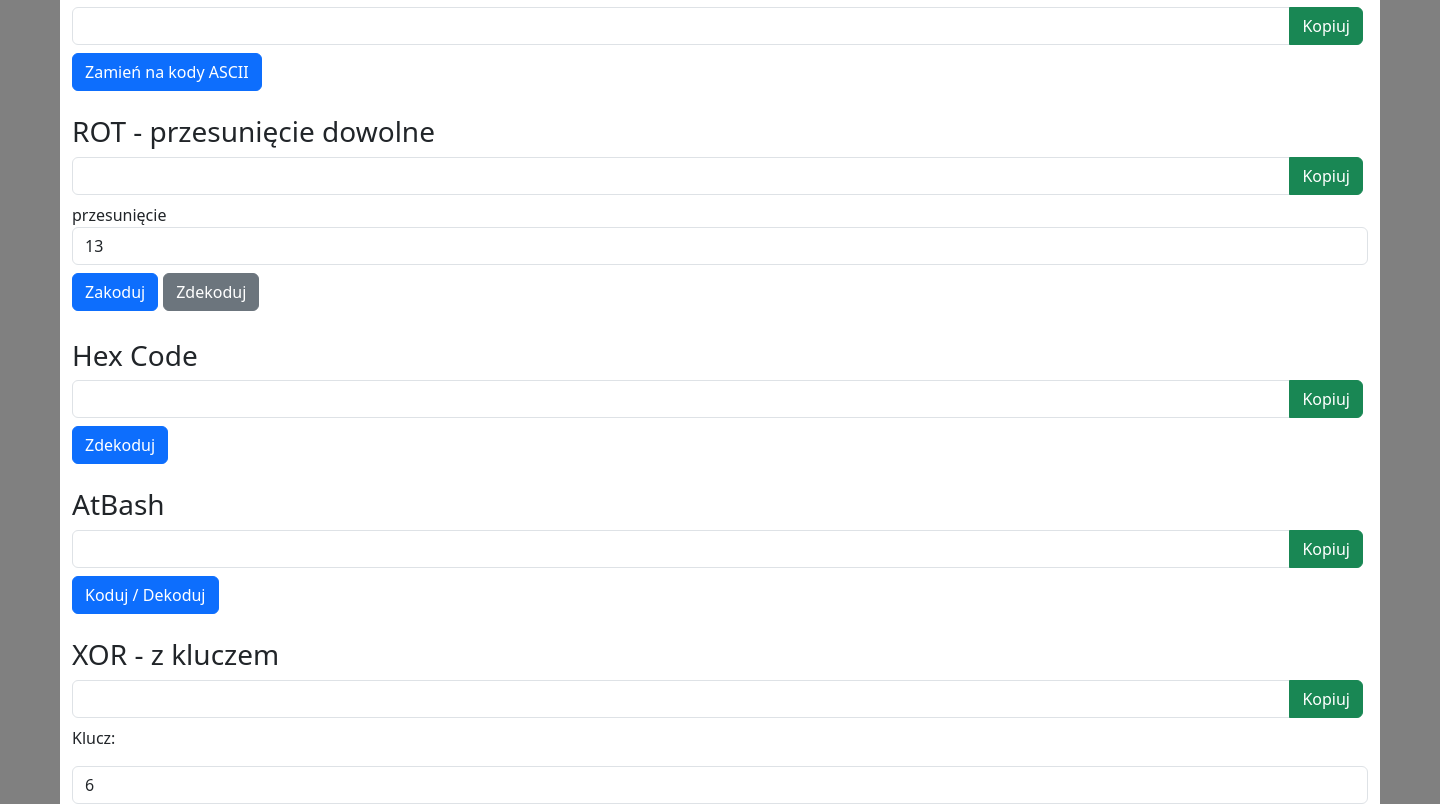
App Component Tests › sprawdź Hex
(page scrolled)
Type "0x74 0x65 0x73 0x74" into the 3rd field named "input_hex" at (681, 399), box [72, 380, 1290, 418]
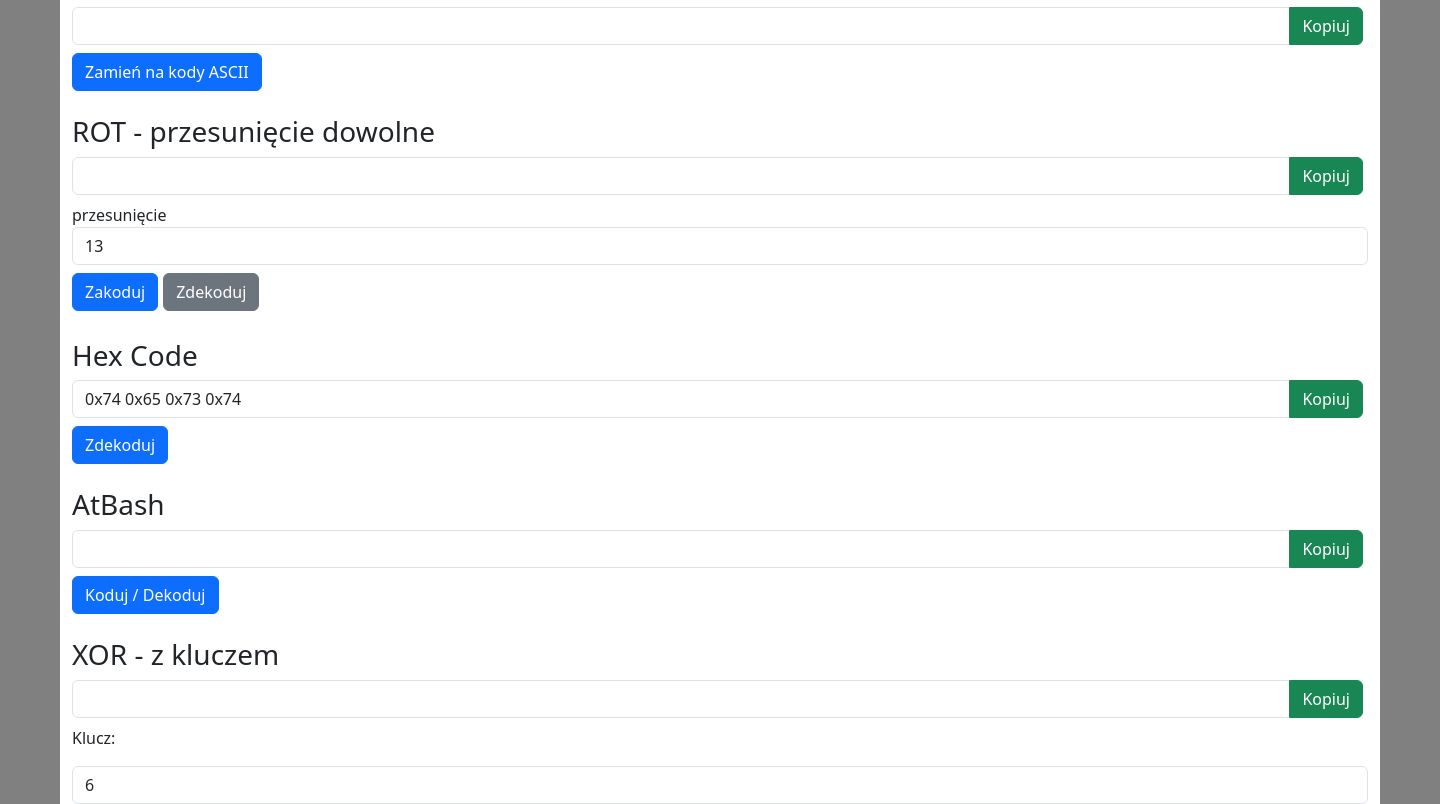
Click the button with id "button_hex" at (120, 445), box [72, 426, 168, 464]
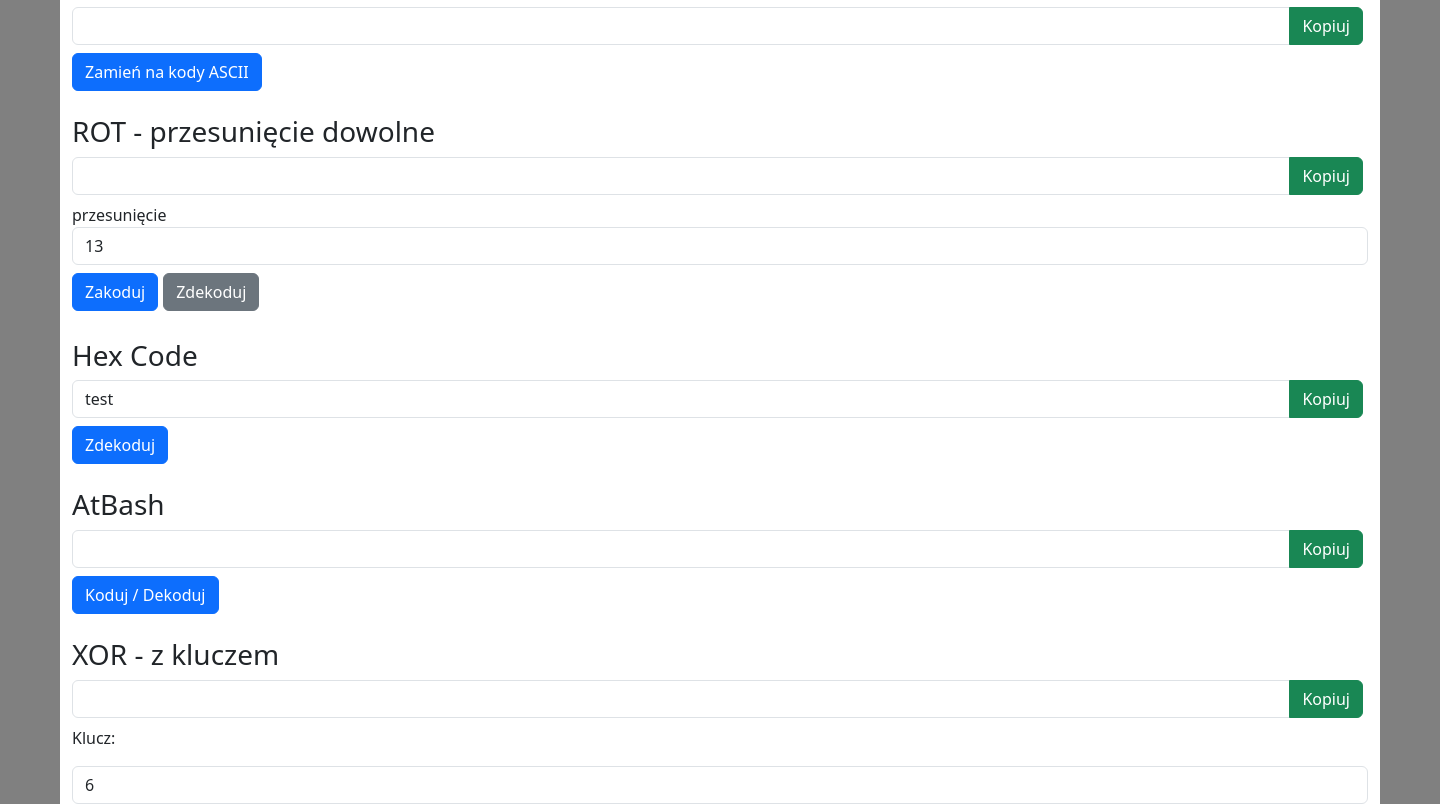
Check: the 3rd field named "input_hex" holds "test", box [72, 380, 1290, 418]
